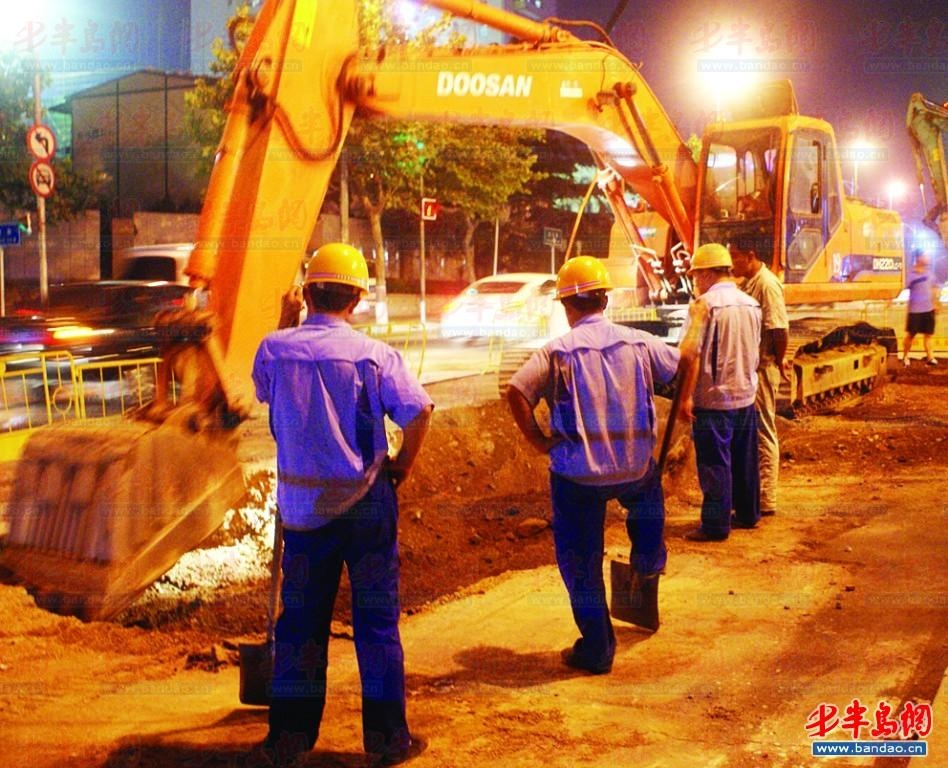none: (721, 230, 762, 281)
yellow: (300, 240, 369, 320), (553, 251, 613, 319), (688, 241, 732, 295)
